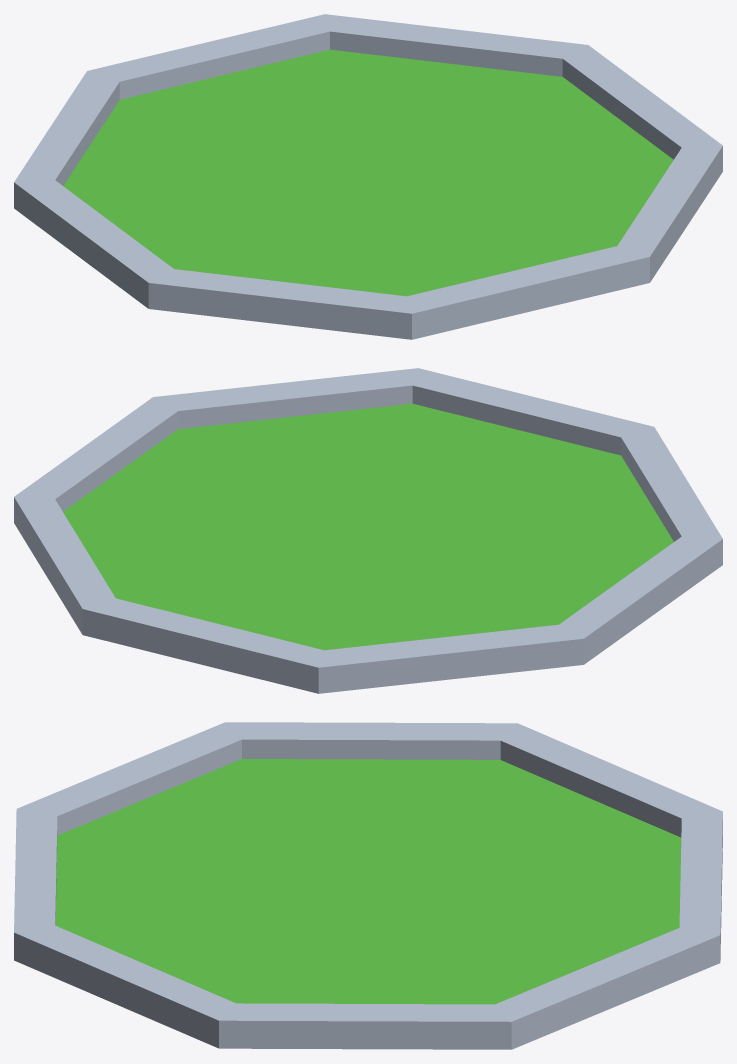
The model's file is base_space_green.fbx.
3 views of the same model, one above another, from view 1: azimuth 30°, elevation 25°; view 2: azimuth 150°, elevation 25°; view 3: azimuth 270°, elevation 25° (orthographic). The views are drawn at different scales.
Visible parts, largest first — view 1: basic_space_green_1x1; view 2: basic_space_green_1x1; view 3: basic_space_green_1x1.
Boxes of the visible parts, box(x1,y1,x2,y2) form: basic_space_green_1x1: box(14, 14, 722, 339); basic_space_green_1x1: box(14, 368, 722, 693); basic_space_green_1x1: box(14, 722, 722, 1049).
Size of the model in its own units: 115 by 5 by 115.
